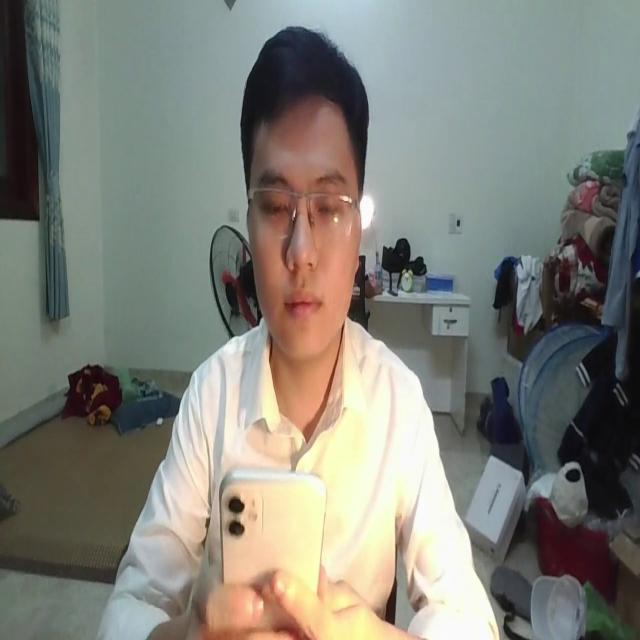phone: (216, 456, 325, 639)
student: (86, 26, 495, 640)
